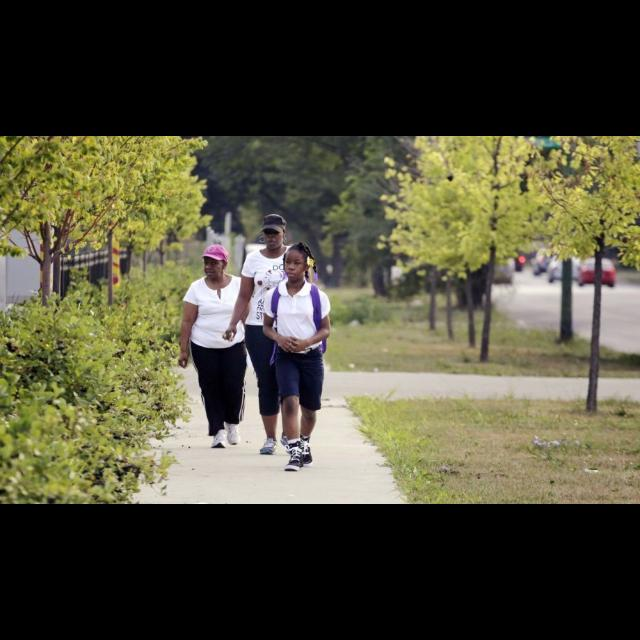head: (284, 245, 312, 283), (203, 248, 229, 280), (262, 218, 288, 250)
person: (220, 214, 314, 456), (176, 244, 260, 451), (262, 241, 332, 473)
